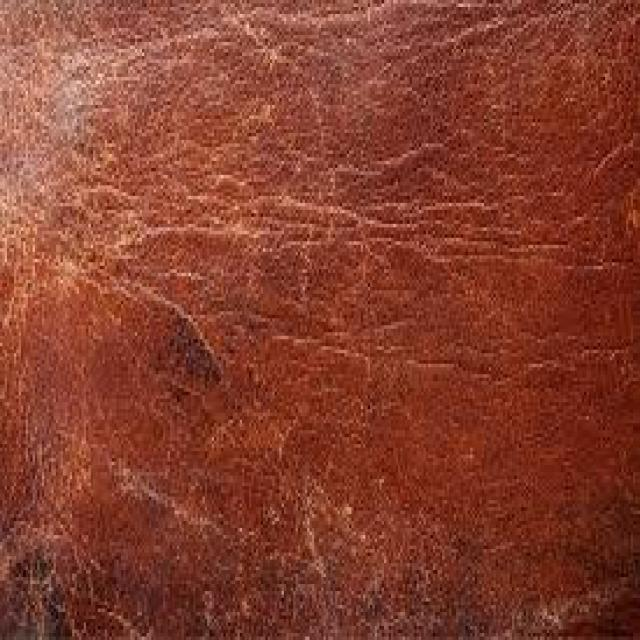Bacterial Injury: (137, 298, 271, 431)
Rotten surface: (98, 151, 382, 267), (12, 18, 104, 264)
